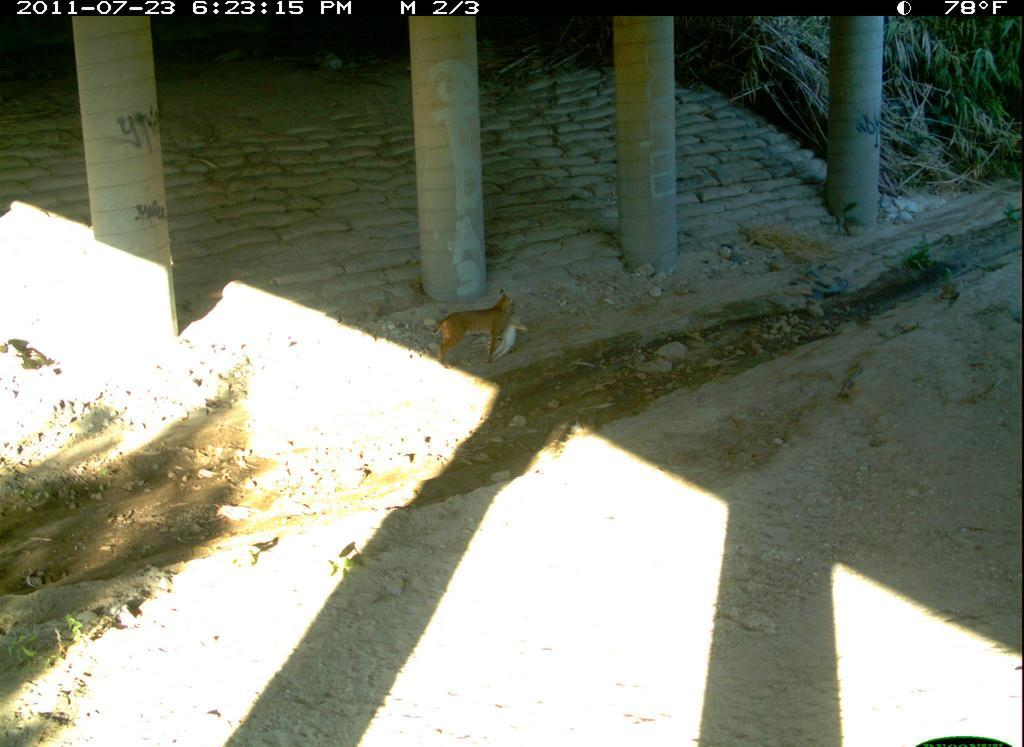bobcat: (858, 564, 1024, 747)
rabbit: (976, 613, 1024, 731)
